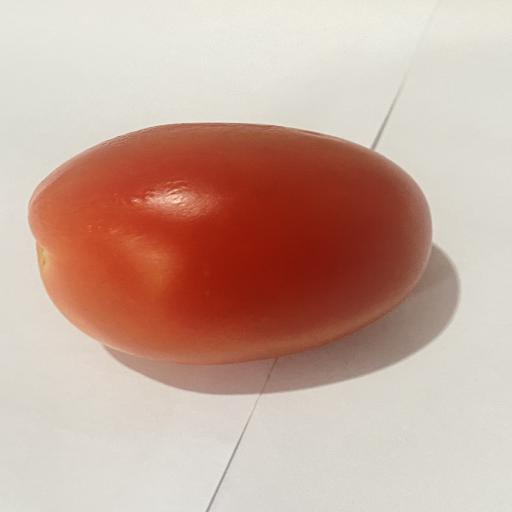spoiled: (29, 123, 431, 364)
